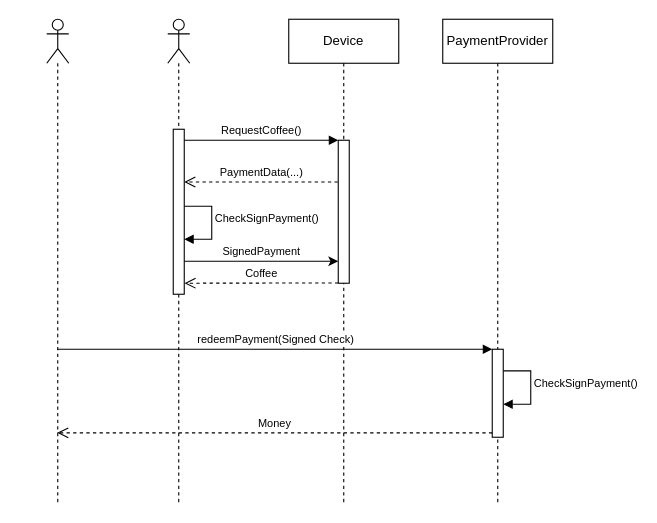
The diagram is 657 pixels wide and 523 high, and some of its shapes have lost their labels. Here are the shapes that lost their labels. From the top down, the box of each, then its label:
(46, 18, 69, 503): Manufacturer
(167, 18, 190, 503): Customer (Smartphone)
